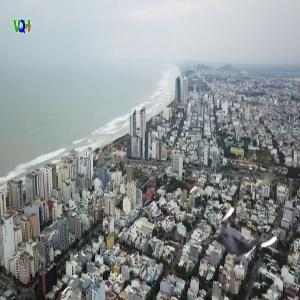drone: (202, 205, 275, 278)
